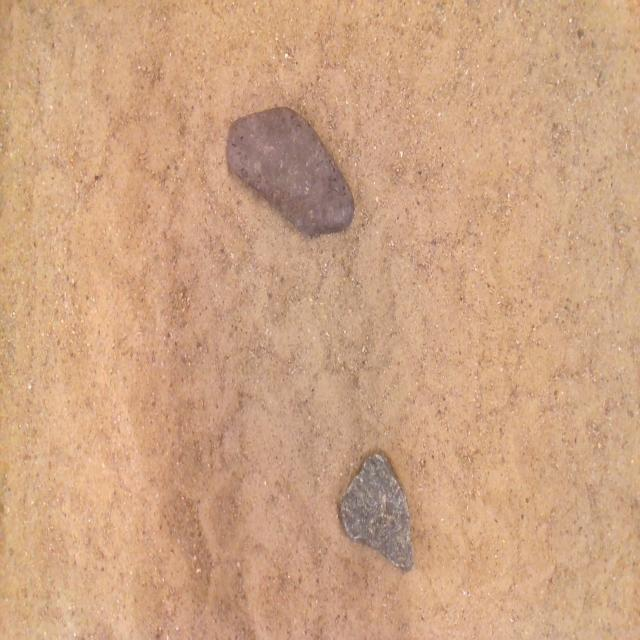rock: (227, 108, 354, 236), (340, 453, 413, 569)
